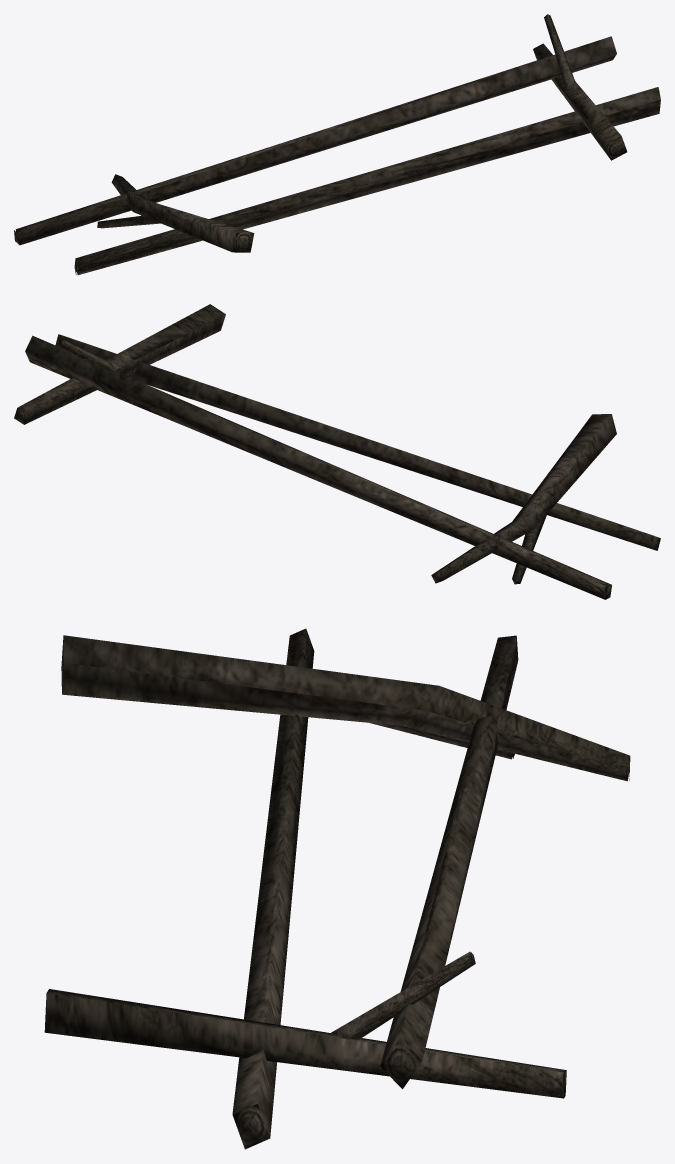
Rendered from MEP_Fence_01.fbx.
3 renders of one model, top to bottom at view 1: azimuth 30°, elevation 25°; view 2: azimuth 150°, elevation 25°; view 3: azimuth 270°, elevation 25°, orthographic. The views are drawn at different scales.
Parts seen in each view (by area): view 1: MEP_Fence_01; view 2: MEP_Fence_01; view 3: MEP_Fence_01.
Boxes of the visible parts, x1,y1,x2,y2 form: MEP_Fence_01: (14, 14, 660, 275); MEP_Fence_01: (14, 304, 660, 599); MEP_Fence_01: (44, 628, 630, 1149).
Size of the model in its own units: 3.67 by 0.6991 by 1.6.
